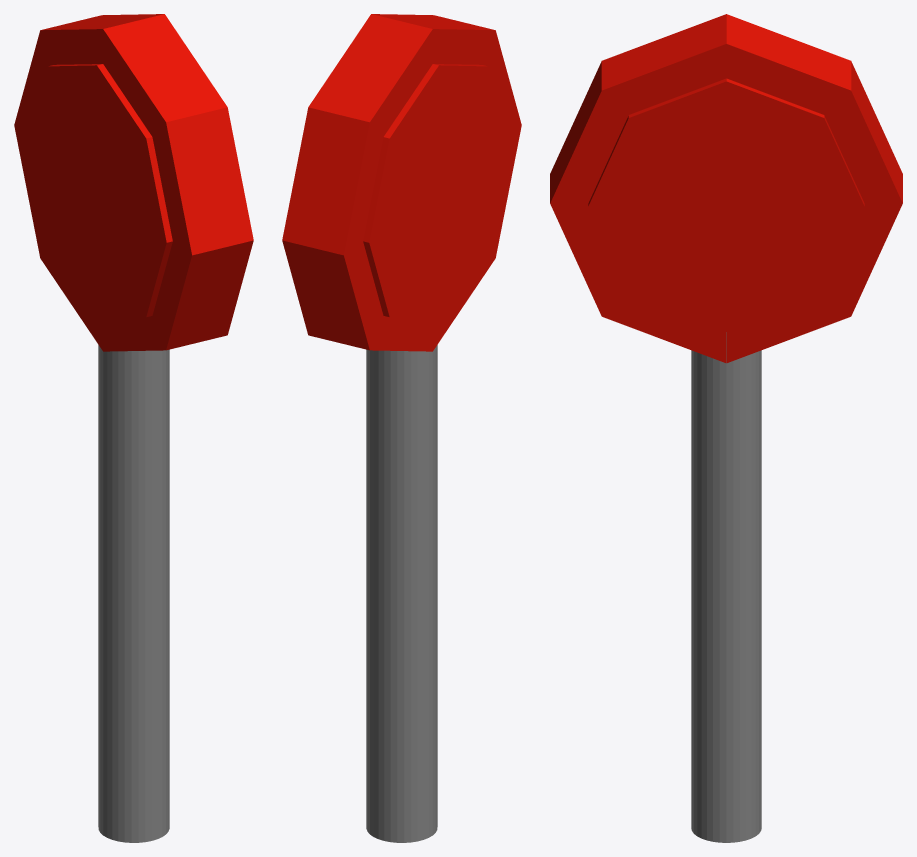
The model's file is stopSign.fbx.
3 renders of one model, left to right at view 1: azimuth 30°, elevation 25°; view 2: azimuth 150°, elevation 25°; view 3: azimuth 270°, elevation 25°, orthographic.
Parts seen in each view (by area): view 1: Cylinder; view 2: Cylinder; view 3: Cylinder.
Part boxes in pixels (x1,y1,x2,y2): Cylinder: (14,14,253,842); Cylinder: (282,14,521,842); Cylinder: (550,14,902,842).
Bounding box in the file's own units: 12 × 125 × 50.
